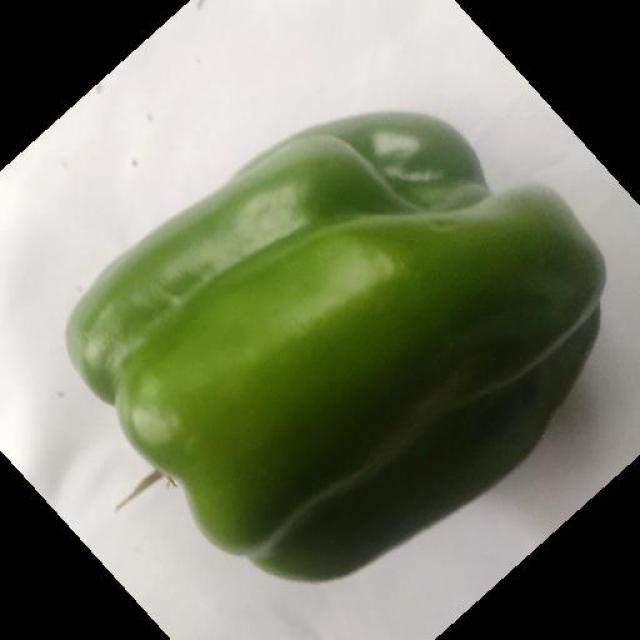Fresh_Capsicum: (112, 136, 556, 584)
